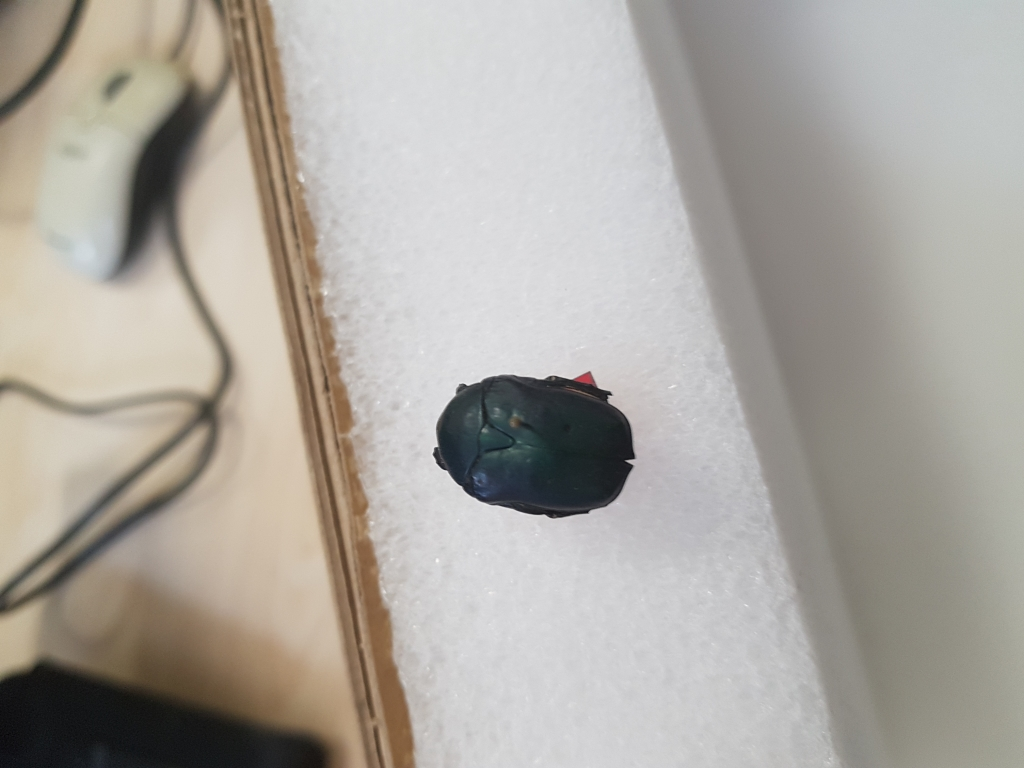Protaetia_afflicta: (429, 365, 639, 526)
